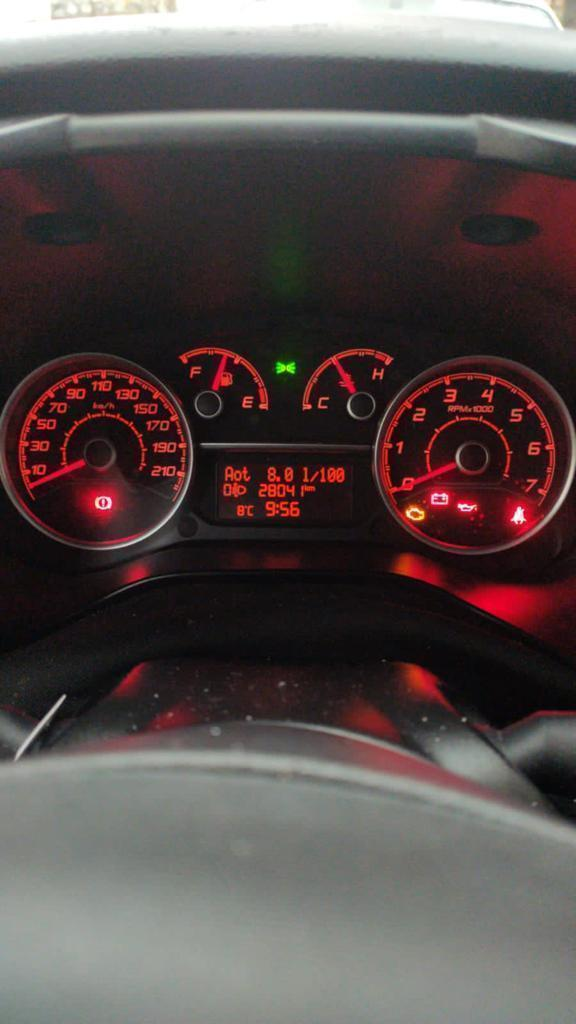,: (276, 475, 281, 482)
0: (283, 466, 293, 481), (336, 467, 345, 483), (327, 467, 335, 483), (276, 483, 285, 497), (223, 482, 231, 497)
1: (320, 466, 326, 484), (299, 484, 303, 498)
2: (258, 483, 267, 497)
4: (286, 484, 295, 497)
5: (280, 500, 289, 517)
6: (290, 501, 301, 517)
8: (267, 466, 276, 482), (267, 483, 276, 497), (236, 504, 244, 516)
9: (265, 500, 275, 517)
X: (242, 465, 252, 482), (224, 464, 233, 481), (301, 463, 308, 482), (309, 469, 318, 482), (247, 504, 255, 517), (233, 469, 241, 481), (275, 502, 279, 514), (309, 485, 315, 492), (304, 484, 308, 491)
odometer: (215, 460, 355, 521)
